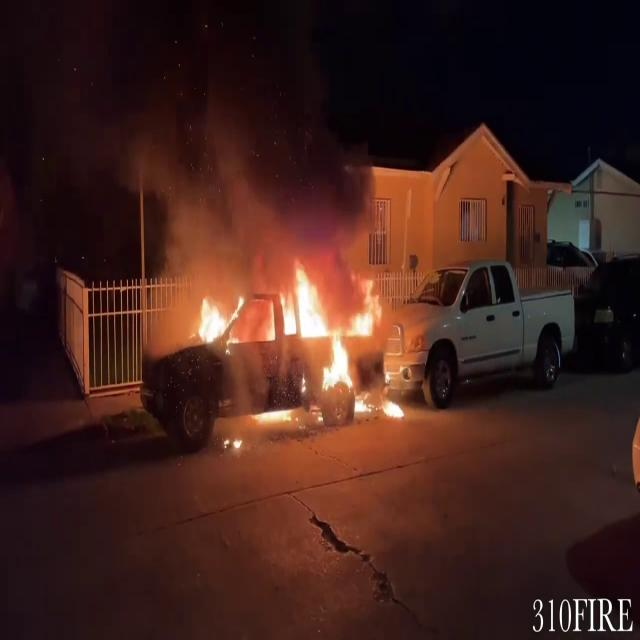Fire: (186, 259, 400, 416), (284, 260, 402, 415), (187, 288, 240, 349)
Smoke: (74, 10, 380, 271)
